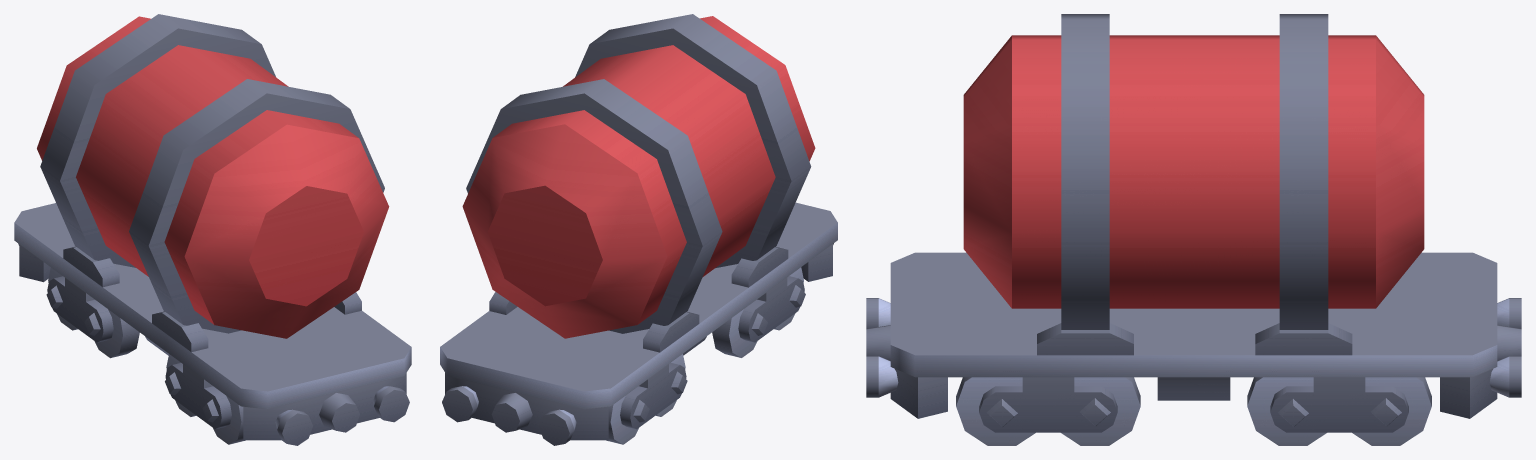
Rendered from wagon_tank.glb.
3 renders of one model, left to right at view 1: azimuth 30°, elevation 25°; view 2: azimuth 150°, elevation 25°; view 3: azimuth 270°, elevation 25°, orthographic. The views are drawn at different scales.
Visible parts, largest first — view 1: train-carriage-tank, wheels-back, wheels-front; view 2: train-carriage-tank, wheels-front, wheels-back; view 3: train-carriage-tank, wheels-front, wheels-back.
Boxes of the visible parts, x1,y1,x2,y2 form: train-carriage-tank: [14, 14, 411, 445]; wheels-back: [46, 267, 139, 358]; wheels-front: [165, 354, 245, 444]; train-carriage-tank: [440, 14, 837, 445]; wheels-front: [712, 267, 805, 357]; wheels-back: [606, 354, 687, 444]; train-carriage-tank: [866, 14, 1521, 418]; wheels-front: [956, 377, 1140, 445]; wheels-back: [1247, 377, 1431, 445].
Bounding box in the file's own units: 1.39 × 1.75 × 2.7.
1 material, 1 textured.
